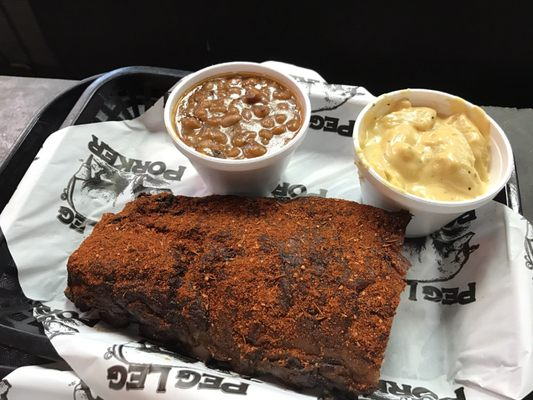sushi: (352, 89, 516, 239), (163, 61, 310, 195)
